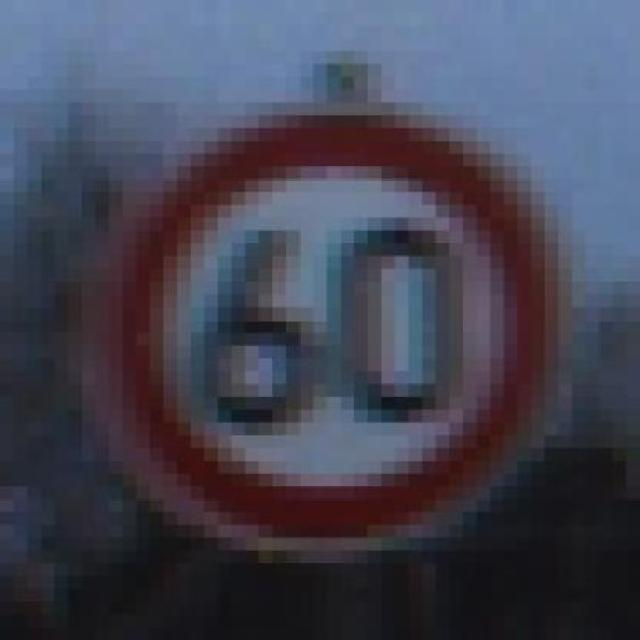forb_speed_over_60: (113, 109, 553, 545)
